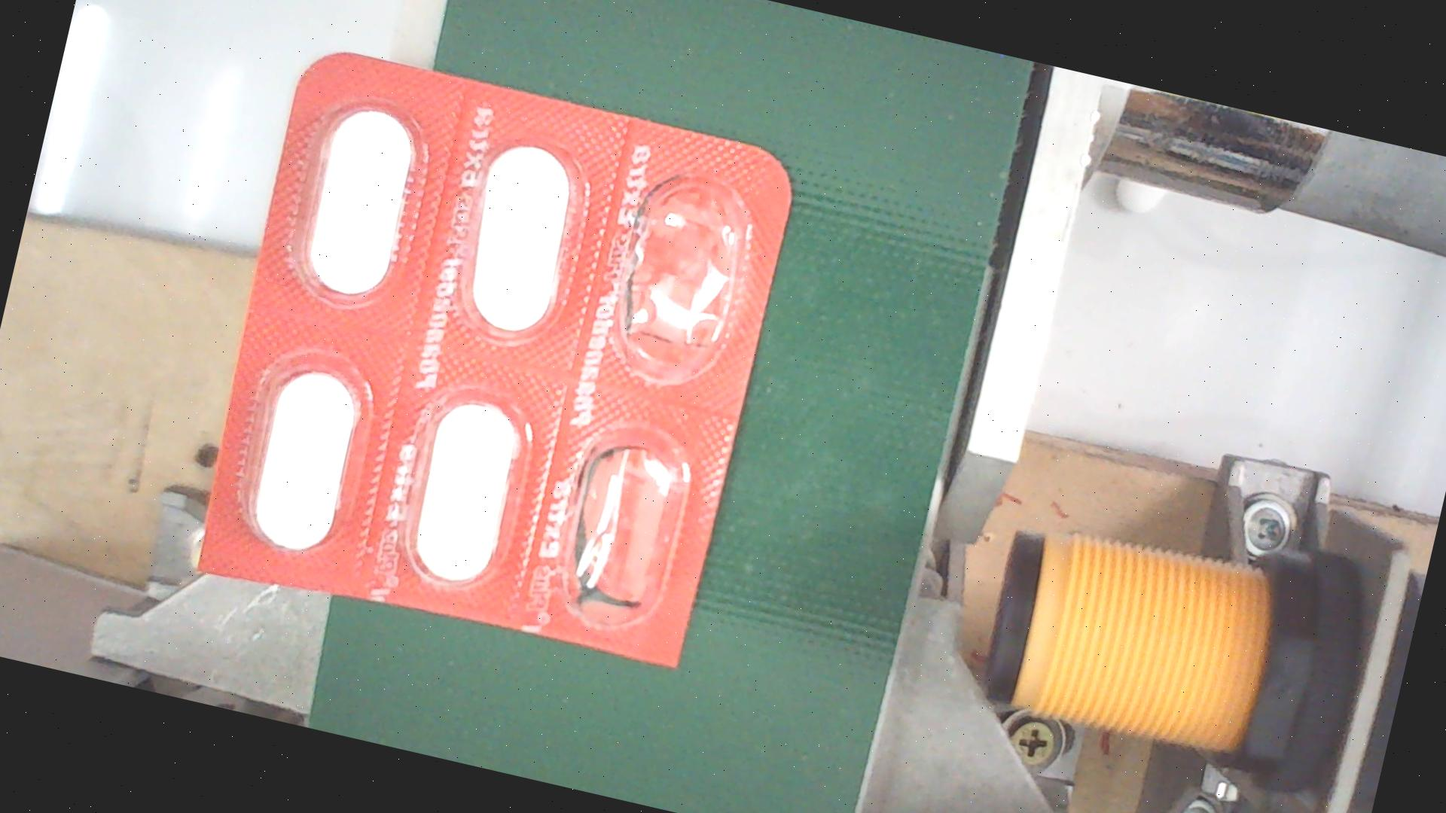Empty: (540, 415, 702, 649), (601, 163, 762, 397)
Full: (443, 129, 605, 363), (278, 82, 440, 316), (384, 375, 546, 609), (215, 339, 377, 573)
